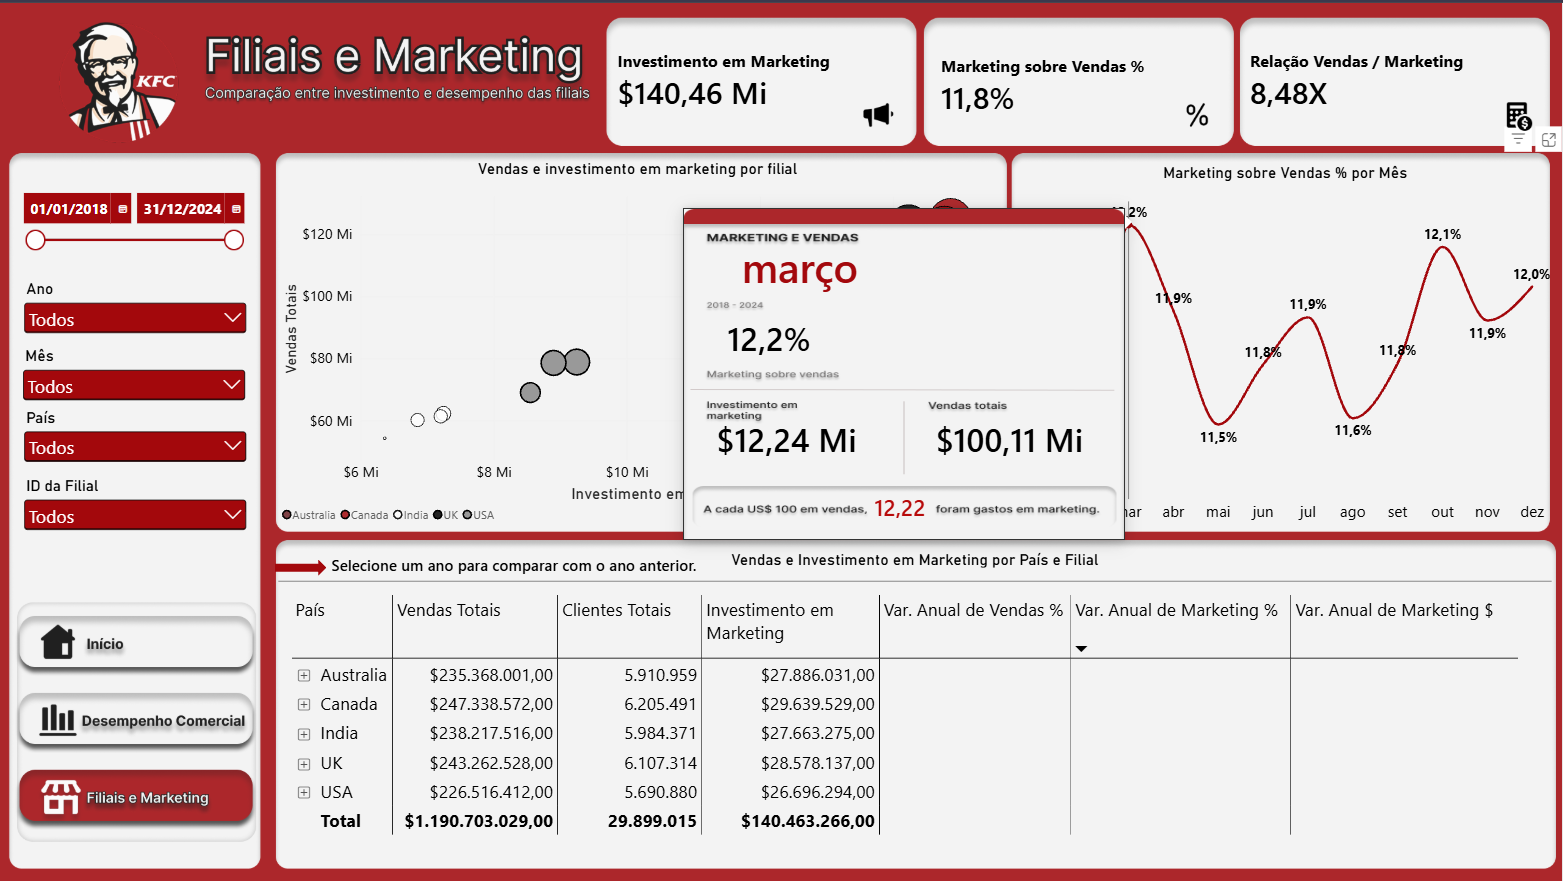

The dashboard page shown, as its layout file describes it:
{"tool":"powerbi","page":{"name":"Filiais e Marketing","canvas":[1920,1080],"ordinal":2},"visuals":[{"type":"scatterChart","title":"Vendas e investimento em marketing por filial","fields":{"Category":["Conjunto de dados de vendas globais do KFC (2018–2024).ID da Filial"],"Series":["Conjunto de dados de vendas globais do KFC (2018–2024).País"],"Size":["Medidas.Clientes Totais"],"X":["Medidas.Investimento em Marketing"],"Y":["Medidas.Vendas Totais"]},"box":[330.2,178.3,907.4,480.7],"z":0},{"type":"pivotTable","title":"Vendas e Investimento em Marketing por País e Filial","fields":{"Rows":["Conjunto de dados de vendas globais do KFC (2018–2024).País","Conjunto de dados de vendas globais do KFC (2018–2024).ID da Filial"],"Values":["Medidas.Vendas Totais","Medidas.Clientes Totais","Medidas.Investimento em Marketing","Medidas.Variação Anual de Vendas % - Matriz","Medidas.Variação Anual de Marketing % - Matriz","Medidas.Variação Anual de Marketing"]},"box":[342.4,657.8,1564.3,422.2],"z":1000},{"type":"cardVisual","fields":{"Data":["Medidas.Marketing sobre Vendas %"]},"box":[1139.7,19,379.9,165.1],"z":2000},{"type":"cardVisual","fields":{"Data":["Medidas.Vendas por Unidade de Marketing"]},"box":[1519.6,19,375.5,154.9],"z":3000},{"type":"areaChart","title":"Marketing sobre Vendas % por Mês ","fields":{"Category":["dCalendario.Mês Abreviado"],"Y":["Medidas.Marketing sobre Vendas %"]},"box":[1237.6,184.1,682.4,474.9],"z":4000},{"type":"slicer","fields":{"Values":["Conjunto de dados de vendas globais do KFC (2018–2024).ID da Filial"]},"box":[24,581.1,283.5,85.2],"z":5000},{"type":"slicer","fields":{"Values":["Conjunto de dados de vendas globais do KFC (2018–2024).País"]},"box":[24,497.7,283.5,83.7],"z":6000},{"type":"slicer","fields":{"Values":["dCalendario.Ano"]},"box":[24,339.3,283.5,82.3],"z":7000},{"type":"slicer","fields":{"Values":["dCalendario.Data"]},"box":[20.6,227.7,283.5,104.3],"z":8000},{"type":"cardVisual","fields":{"Data":["Medidas.Investimento em Marketing"]},"box":[742.3,13.2,388.7,165.1],"z":9000},{"type":"image","box":[1451,116.9,39.5,42.4],"z":10000},{"type":"image","box":[1844,116.9,39.5,42.4],"z":11000},{"type":"image","box":[1059.4,116.9,39.5,42.4],"z":12000},{"type":"actionButton","box":[23.3,852.8,280.9,58.2],"z":13000},{"type":"actionButton","box":[23.3,758,280.9,56.5],"z":14000},{"type":"slicer","fields":{"Values":["dCalendario.Mês Abreviado"]},"box":[22.6,421.3,283.5,82.3],"z":15000},{"type":"shape","box":[337.5,683.2,63.2,19.9],"z":15003},{"type":"cardVisual","fields":{"Data":["Medidas.Aviso de Comparação Anual - Matriz"]},"box":[390.5,655.8,536,72.7],"z":15004}]}

Visuals, with their boxes in screenshot pixels (x1, y1, x2, y2), scaled from the page's 1920x1080 canvas onto the 1563x881 screenshot:
"Vendas e investimento em marketing por filial" scatterChart: rect(269, 145, 1007, 538)
"Vendas e Investimento em Marketing por País e Filial" pivotTable: rect(279, 537, 1552, 880)
cardVisual - Medidas.Marketing sobre Vendas %: rect(928, 15, 1237, 150)
cardVisual - Medidas.Vendas por Unidade de Marketing: rect(1237, 15, 1543, 142)
"Marketing sobre Vendas % por Mês " areaChart: rect(1007, 150, 1562, 538)
slicer - Conjunto de dados de vendas globais do KFC (2018–2024).ID da Filial: rect(20, 474, 250, 544)
slicer - Conjunto de dados de vendas globais do KFC (2018–2024).País: rect(20, 406, 250, 474)
slicer - dCalendario.Ano: rect(20, 277, 250, 344)
slicer - dCalendario.Data: rect(17, 186, 248, 271)
cardVisual - Medidas.Investimento em Marketing: rect(604, 11, 921, 145)
image: rect(1181, 95, 1213, 130)
image: rect(1501, 95, 1533, 130)
image: rect(862, 95, 895, 130)
actionButton: rect(19, 696, 248, 743)
actionButton: rect(19, 618, 248, 664)
slicer - dCalendario.Mês Abreviado: rect(18, 344, 249, 411)
shape: rect(275, 557, 326, 574)
cardVisual - Medidas.Aviso de Comparação Anual - Matriz: rect(318, 535, 754, 594)
